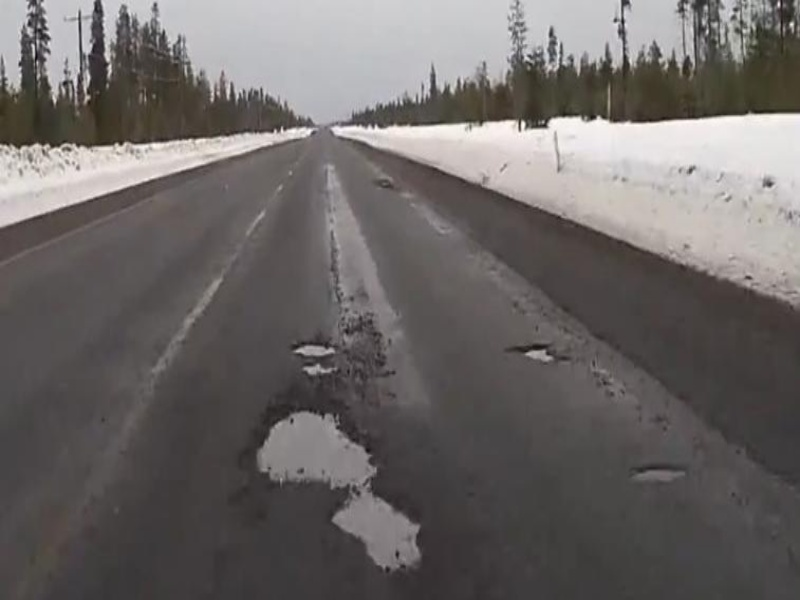pothole: (251, 397, 386, 490), (330, 492, 428, 580), (510, 341, 569, 370), (289, 338, 339, 362)
